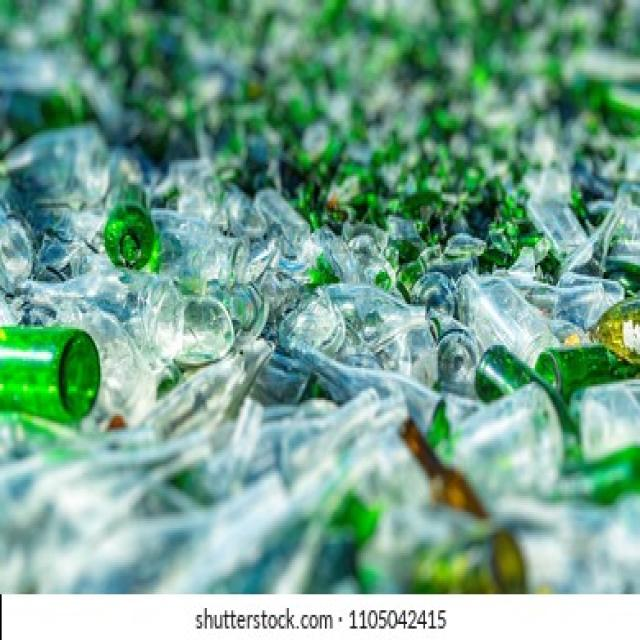glass: (28, 153, 612, 508)
